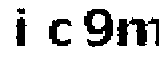9: (78, 5, 116, 53)
c: (47, 14, 71, 50)
i: (8, 4, 29, 53)
m: (116, 16, 160, 50)
